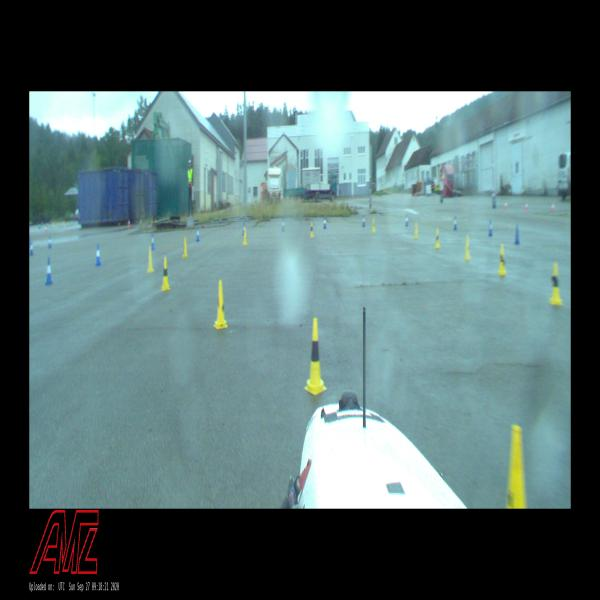blue_cone: (45, 257, 52, 284), (95, 244, 100, 266), (515, 224, 519, 243), (453, 214, 457, 230), (196, 226, 200, 241), (489, 218, 492, 236), (405, 214, 409, 226), (30, 241, 33, 254), (48, 235, 51, 248), (282, 218, 285, 231), (152, 232, 154, 249), (363, 213, 365, 227), (324, 216, 326, 229)
orange_cone: (503, 200, 507, 210), (551, 201, 555, 211), (525, 200, 528, 211), (128, 218, 130, 228)
yellow_cone: (506, 424, 526, 507), (305, 318, 326, 395), (213, 280, 228, 329), (550, 264, 562, 304), (162, 257, 170, 290), (499, 244, 506, 274), (147, 246, 154, 272), (464, 235, 470, 261), (182, 237, 188, 258), (435, 227, 439, 248), (243, 228, 247, 246), (310, 222, 314, 237), (415, 222, 418, 238), (372, 218, 375, 233)
